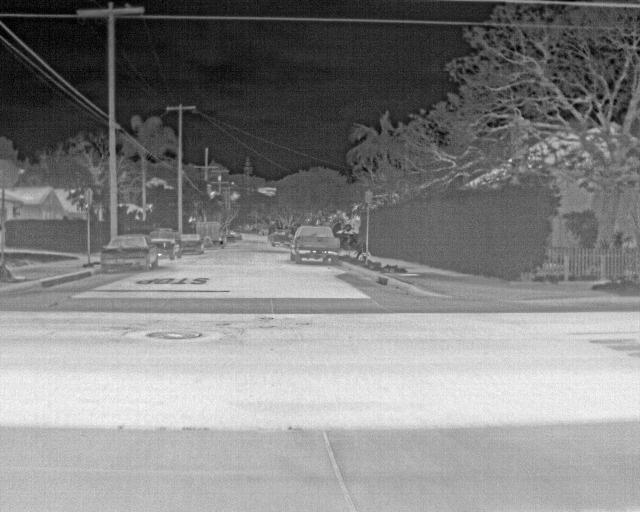car: (101, 234, 157, 273), (289, 224, 340, 264), (146, 226, 182, 261), (179, 230, 205, 254), (267, 226, 293, 247), (225, 229, 244, 243)
